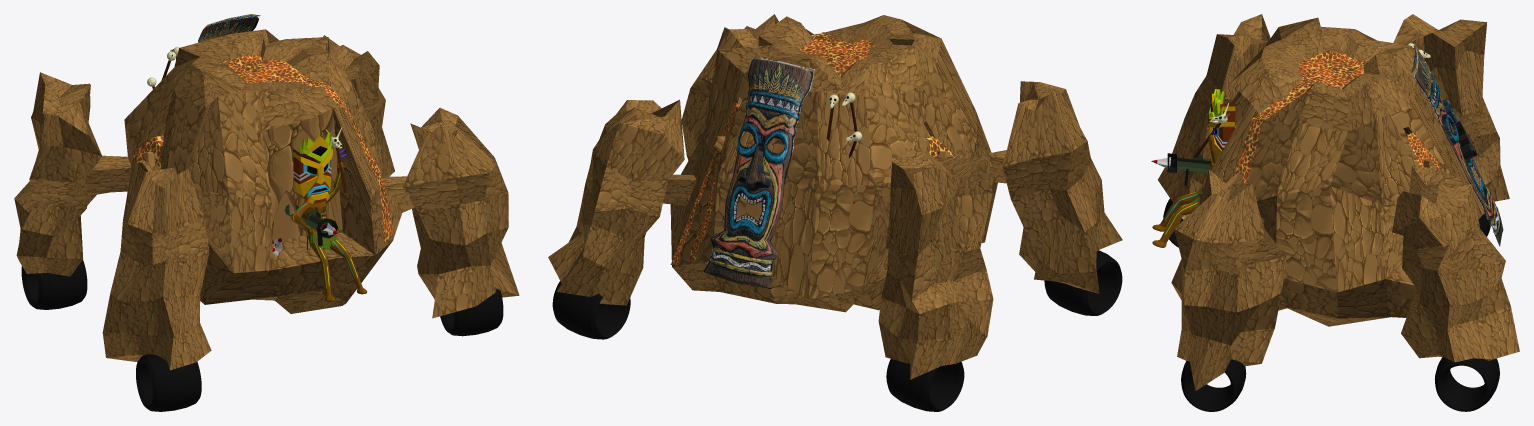
The model's file is Gargantulous.obj.
3 views of the same model, side by side, from view 1: azimuth 30°, elevation 25°; view 2: azimuth 150°, elevation 25°; view 3: azimuth 270°, elevation 25° (orthographic). The views are drawn at different scales.
Parts seen in each view (by area): view 1: Cone.002_Cone.004, Torus.002, Cone, Plane.001_Plane.002, Torus.003, Plane.007_Plane.001, Torus, Plane, Circle, Cone.001_Cone.002; view 2: Cone.002_Cone.004, Plane, Cone, Torus.003, Torus.001, Torus.002; view 3: Cone.002_Cone.004, Cone, Plane, Torus.001, Torus, Plane.007_Plane.001, Plane.001_Plane.002, Circle.
Part boxes in pixels (bbox=[...]): Cone.002_Cone.004: bbox=[14, 29, 519, 370]; Torus.002: bbox=[136, 354, 201, 411]; Cone: bbox=[221, 54, 393, 242]; Plane.001_Plane.002: bbox=[293, 132, 332, 203]; Torus.003: bbox=[21, 259, 87, 309]; Plane.007_Plane.001: bbox=[291, 162, 367, 301]; Torus: bbox=[440, 289, 503, 336]; Plane: bbox=[198, 14, 260, 42]; Circle: bbox=[284, 204, 337, 246]; Cone.001_Cone.002: bbox=[132, 136, 163, 168]; Cone.002_Cone.004: bbox=[548, 14, 1122, 379]; Plane: bbox=[703, 54, 814, 288]; Cone: bbox=[670, 32, 874, 264]; Torus.003: bbox=[886, 359, 964, 411]; Torus.001: bbox=[552, 281, 630, 339]; Torus.002: bbox=[1044, 250, 1122, 315]; Cone.002_Cone.004: bbox=[1158, 14, 1519, 390]; Cone: bbox=[1234, 51, 1441, 182]; Plane: bbox=[1411, 45, 1503, 246]; Torus.001: bbox=[1434, 356, 1499, 411]; Torus: bbox=[1181, 359, 1246, 411]; Plane.007_Plane.001: bbox=[1152, 134, 1217, 247]; Plane.001_Plane.002: bbox=[1209, 89, 1235, 164]; Circle: bbox=[1167, 150, 1211, 186].
Size of the model in its own units: 4.39 by 2.94 by 3.49.
Materials: 38 (20 with a texture image).
